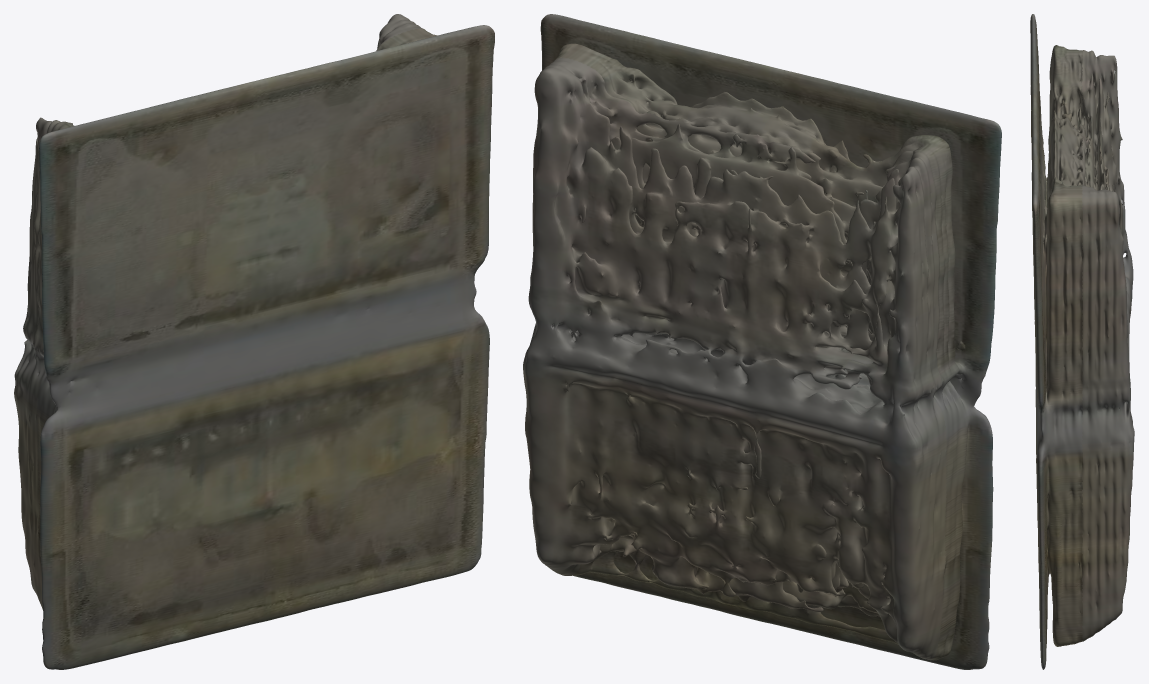
The model's file is kfl-2270.glb.
The picture shows the model from 3 angles, left to right: view 1: azimuth 30°, elevation 25°; view 2: azimuth 150°, elevation 25°; view 3: azimuth 270°, elevation 25°; orthographic projection. The views are drawn at different scales.
Visible parts, largest first — view 1: geometry_0; view 2: geometry_0; view 3: geometry_0.
Boxes of the visible parts, bbox=[...] form: geometry_0: bbox=[14, 14, 494, 669]; geometry_0: bbox=[523, 14, 1001, 669]; geometry_0: bbox=[1030, 14, 1134, 669].
Bounding box in the file's own units: 0.867 × 0.9952 × 0.1977.
1 material, 1 textured.
